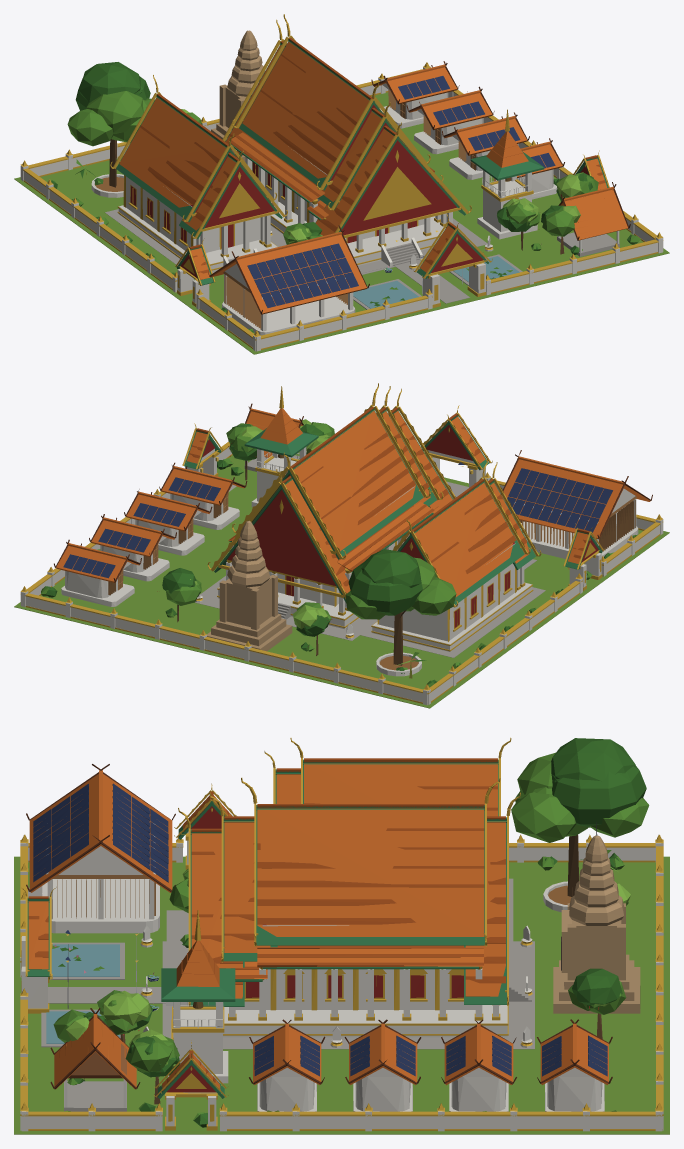
The model's file is temple_3.glb.
3 renders of one model, top to bottom at view 1: azimuth 30°, elevation 25°; view 2: azimuth 150°, elevation 25°; view 3: azimuth 270°, elevation 25°, orthographic. The views are drawn at different scales.
Parts seen in each view (by area): view 1: body; view 2: body; view 3: body.
Part boxes in pixels (<box>): body: <box>14,14,669,354</box>; body: <box>14,383,669,708</box>; body: <box>14,737,669,1134</box>.
Bounding box in the file's own units: 47.9 × 17.79 × 47.9.
